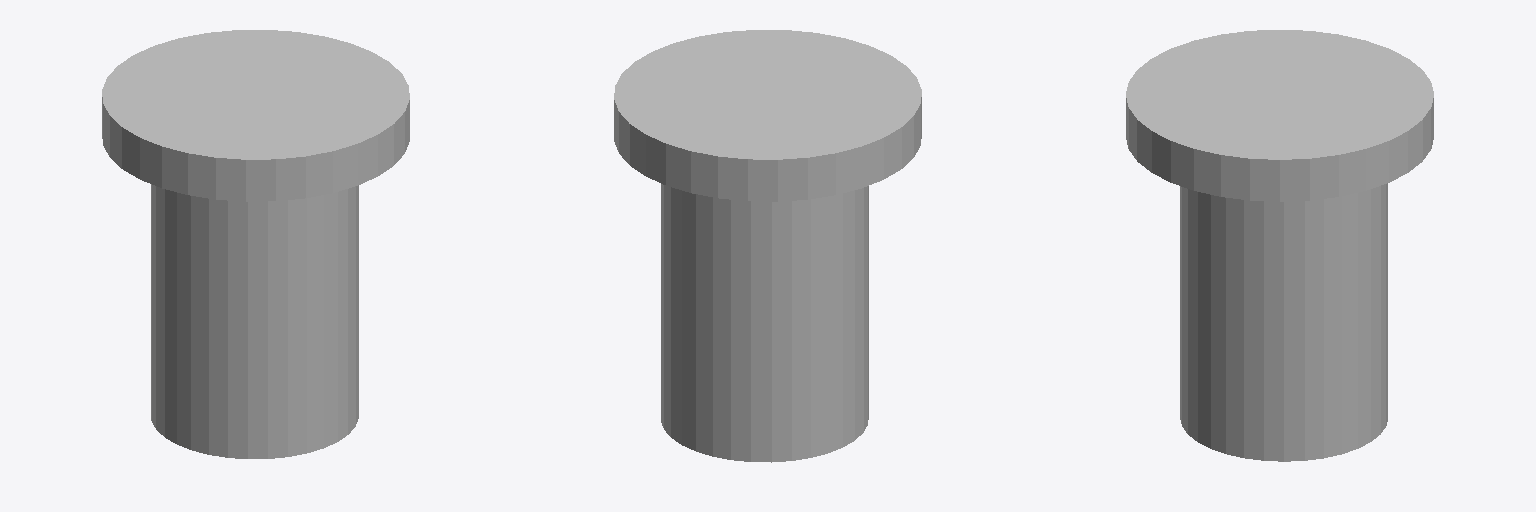
Rendered from potpillule.obj.
The picture shows the model from 3 angles: view 1: azimuth 30°, elevation 25°; view 2: azimuth 150°, elevation 25°; view 3: azimuth 270°, elevation 25°; orthographic projection.
Parts seen in each view (by area): view 1: Cylinder; view 2: Cylinder; view 3: Cylinder.
Boxes of the visible parts, x1,y1,x2,y2 form: Cylinder: [102, 30, 409, 458]; Cylinder: [614, 30, 921, 462]; Cylinder: [1126, 30, 1433, 461].
Bounding box in the file's own units: 0.3849 × 0.4437 × 0.3849.